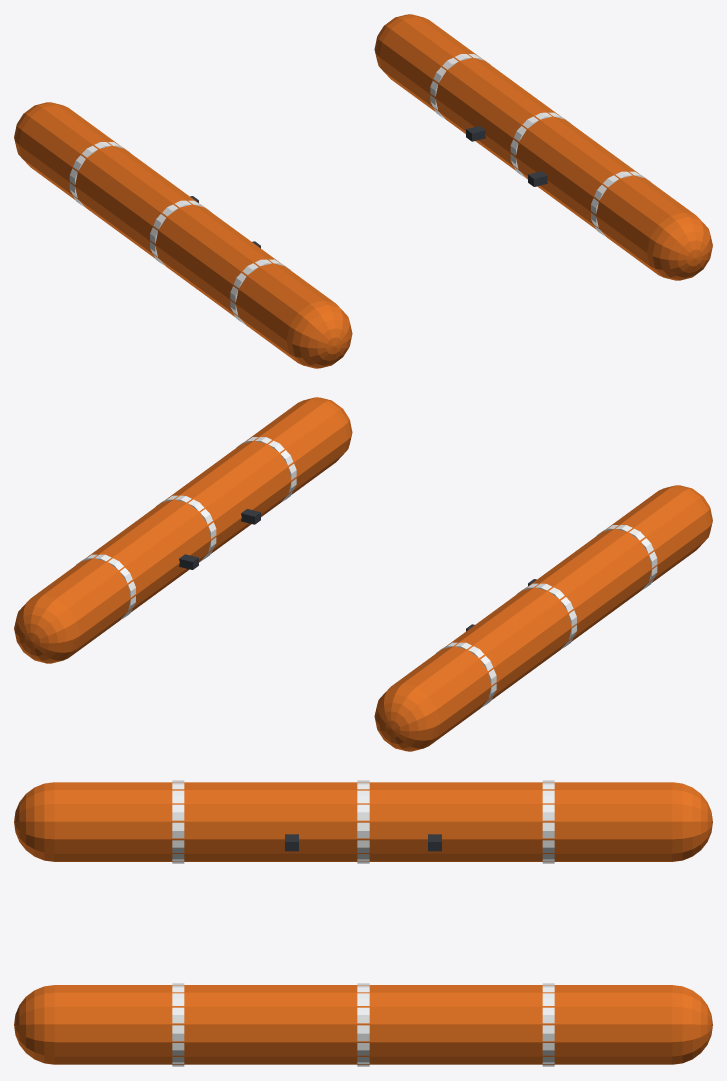
File: vortex_r.glb
3 renders of one model, top to bottom at view 1: azimuth 30°, elevation 25°; view 2: azimuth 150°, elevation 25°; view 3: azimuth 270°, elevation 25°, orthographic. The views are drawn at different scales.
Parts seen in each view (by area): view 1: model; view 2: model; view 3: model.
Part boxes in pixels (x1,y1,x2,y2): model: (14, 14, 712, 368); model: (14, 397, 712, 751); model: (14, 780, 712, 1066).
Bounding box in the file's own units: 2.75 × 0.4078 × 3.42.
Materials: 1 (1 with a texture image).
